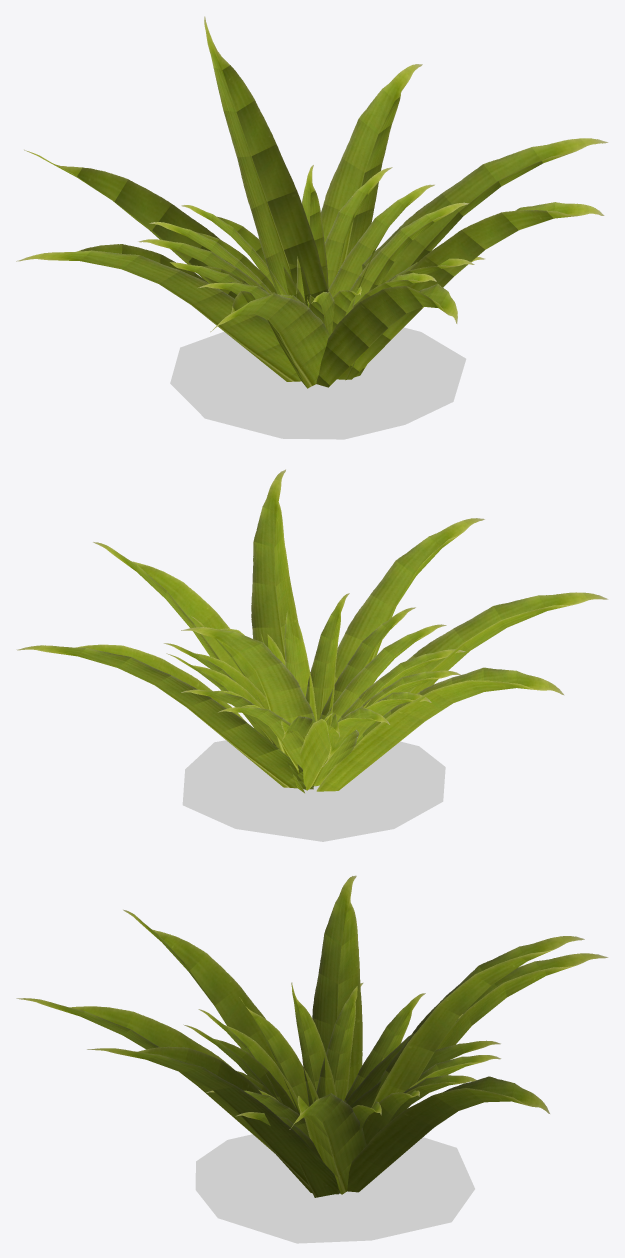
The model's file is Plant_2.fbx.
The picture shows the model from 3 angles, top to bottom: view 1: azimuth 30°, elevation 25°; view 2: azimuth 150°, elevation 25°; view 3: azimuth 270°, elevation 25°; orthographic projection. The views are drawn at different scales.
Parts seen in each view (by area): view 1: pPlane006, pPlane033, Plane014; view 2: pPlane006, pPlane033, Plane014; view 3: pPlane006, Plane014, pPlane033.
Boxes of the visible parts, x1=… form: pPlane006: x1=16, y1=16, x2=608, y2=388; pPlane033: x1=149, y1=64, x2=604, y2=380; Plane014: x1=170, y1=327, x2=466, y2=439; pPlane006: x1=93, y1=518, x2=608, y2=793; pPlane033: x1=16, y1=469, x2=415, y2=789; Plane014: x1=182, y1=740, x2=445, y2=841; pPlane006: x1=16, y1=875, x2=608, y2=1194; Plane014: x1=195, y1=1134, x2=474, y2=1243; pPlane033: x1=87, y1=1014, x2=549, y2=1197.
Bounding box in the file's own units: 74.92 × 39.14 × 71.46.
Materials: 1 (1 with a texture image).
